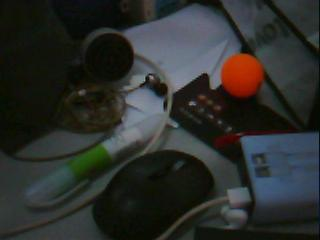oball: (221, 54, 263, 96)
